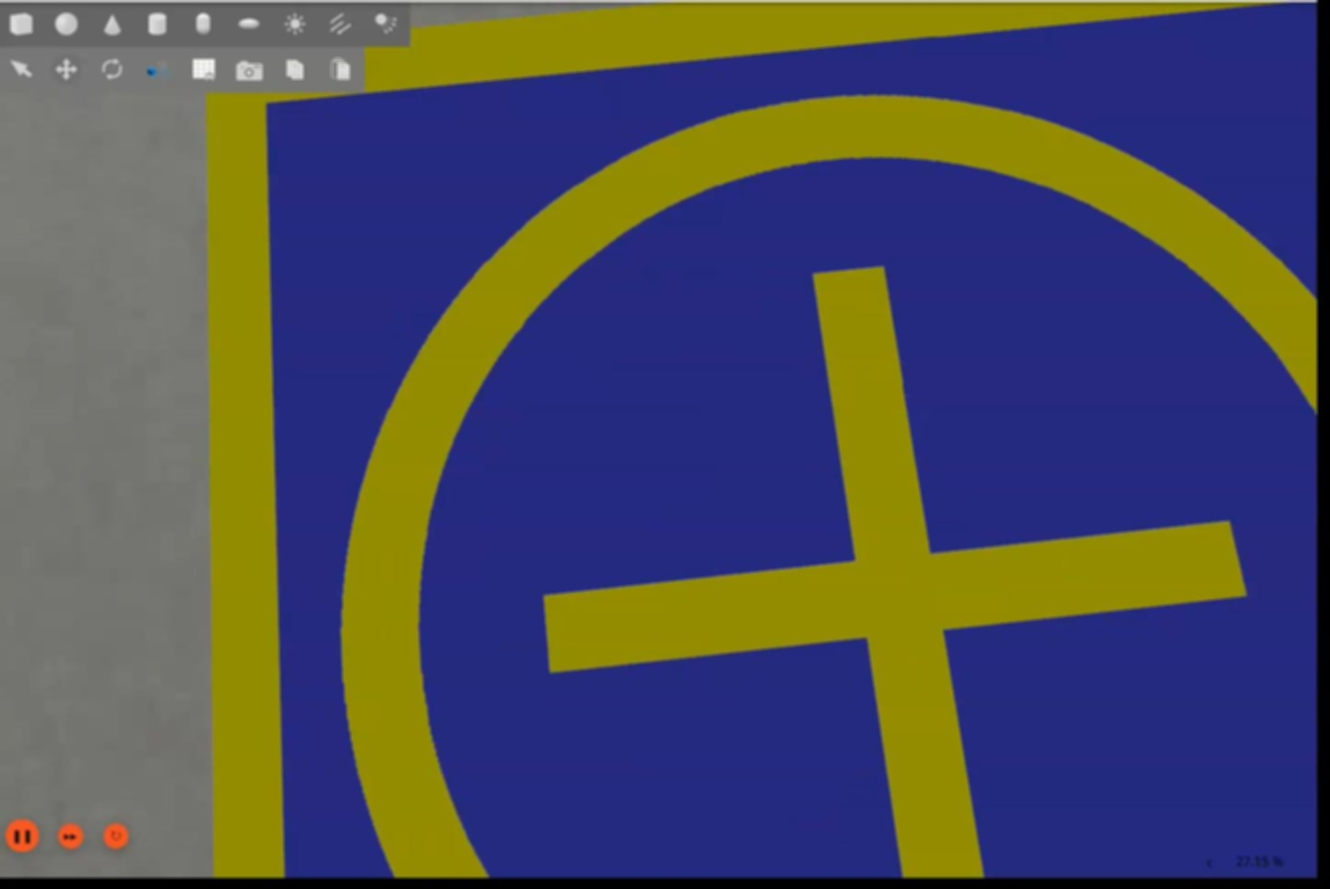small_base: (211, 1, 1313, 880)
